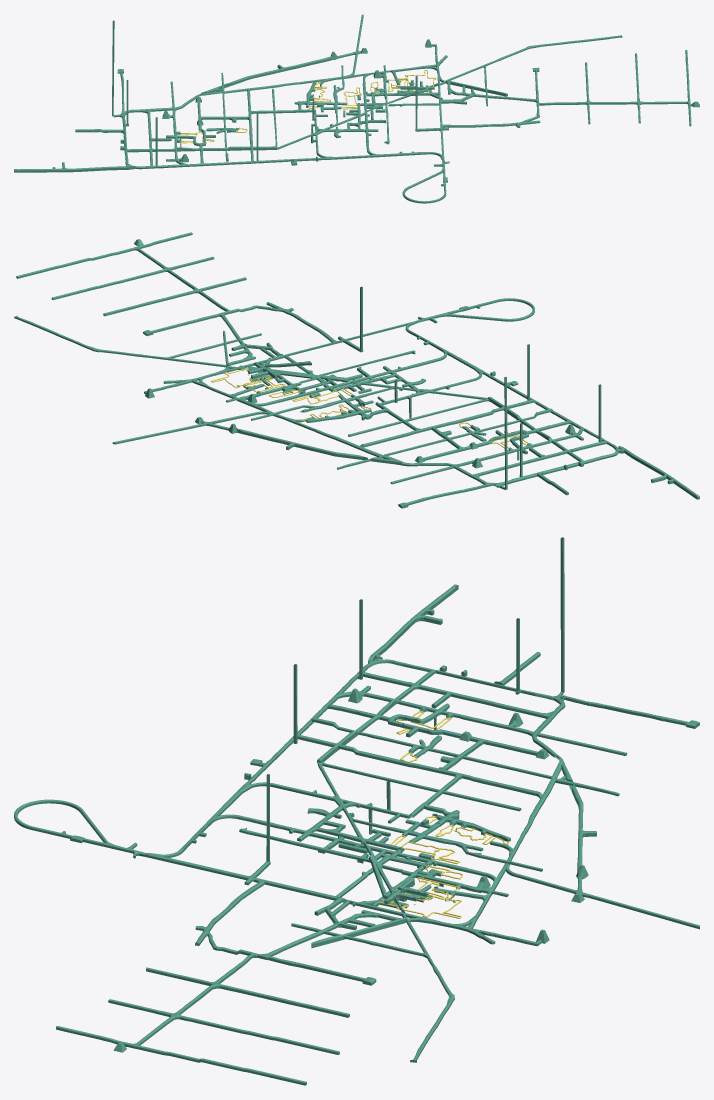
File: dddd.glb
3 views of the same model, one above another, from view 1: azimuth 30°, elevation 25°; view 2: azimuth 150°, elevation 25°; view 3: azimuth 270°, elevation 25° (orthographic). The views are drawn at different scales.
Parts seen in each view (by area): view 1: 1944老探矿巷道实体_mesh_, 1944巷道实体_mesh_, 1944井_mesh_, 1944分层采空区_curve_; view 2: 1944老探矿巷道实体_mesh_, 1944巷道实体_mesh_, 1944井_mesh_, 1944分层采空区_curve_, 1944二分层巷道_mesh_; view 3: 1944老探矿巷道实体_mesh_, 1944巷道实体_mesh_, 1944井_mesh_, 1944分层采空区_curve_.
Boxes of the visible parts, box(x1,y1,x2,y2) form: 1944老探矿巷道实体_mesh_: box(113, 14, 624, 203); 1944巷道实体_mesh_: box(14, 39, 699, 172); 1944井_mesh_: box(112, 20, 417, 164); 1944分层采空区_curve_: box(179, 70, 436, 143); 1944老探矿巷道实体_mesh_: box(14, 274, 618, 508); 1944巷道实体_mesh_: box(16, 232, 699, 499); 1944井_mesh_: box(360, 286, 601, 489); 1944分层采空区_curve_: box(211, 367, 528, 450); 1944二分层巷道_mesh_: box(248, 361, 311, 378); 1944老探矿巷道实体_mesh_: box(14, 659, 699, 1062); 1944巷道实体_mesh_: box(56, 584, 584, 1085); 1944井_mesh_: box(266, 537, 564, 861); 1944分层采空区_curve_: box(379, 710, 508, 918).
Bounding box in the file's own units: 8.33 × 1.43 × 4.83.
